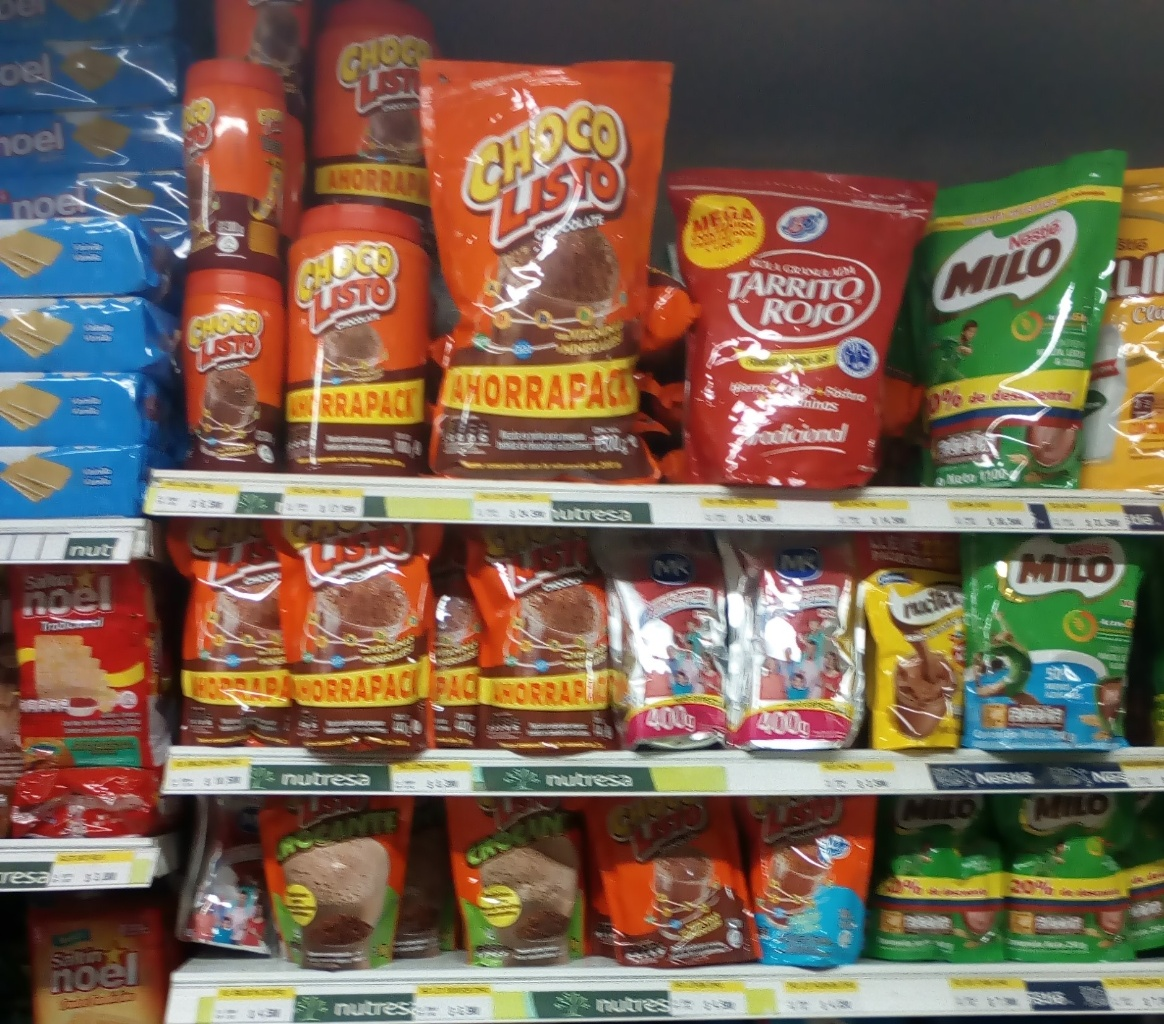COL0170103DYP1,500: (414, 51, 676, 483)
COL0170103DYP44000: (165, 517, 313, 749)
COL0170103TRR00100: (316, 1, 446, 267)
COL0170104DYP20000: (733, 787, 878, 970)
COL0170205DYP50000: (956, 531, 1137, 752)
